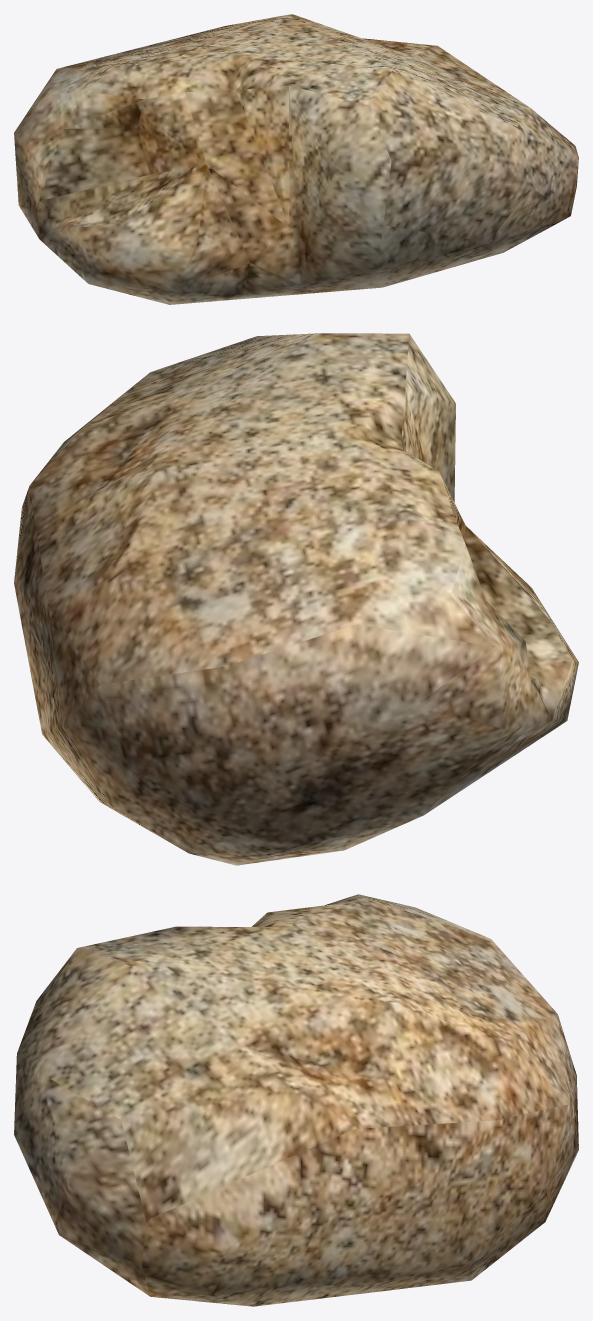
The model's file is rock008.glb.
The picture shows the model from 3 angles, top to bottom: view 1: azimuth 30°, elevation 25°; view 2: azimuth 150°, elevation 25°; view 3: azimuth 270°, elevation 25°; orthographic projection. The views are drawn at different scales.
Visible parts, largest first — view 1: rock008; view 2: rock008; view 3: rock008.
Part boxes in pixels (box(x1,y1,x2,y2)): rock008: box(14, 14, 578, 304); rock008: box(14, 333, 578, 865); rock008: box(14, 894, 578, 1306).
Bounding box in the file's own units: 0.9831 × 0.5822 × 0.9054.
Materials: 1 (1 with a texture image).
